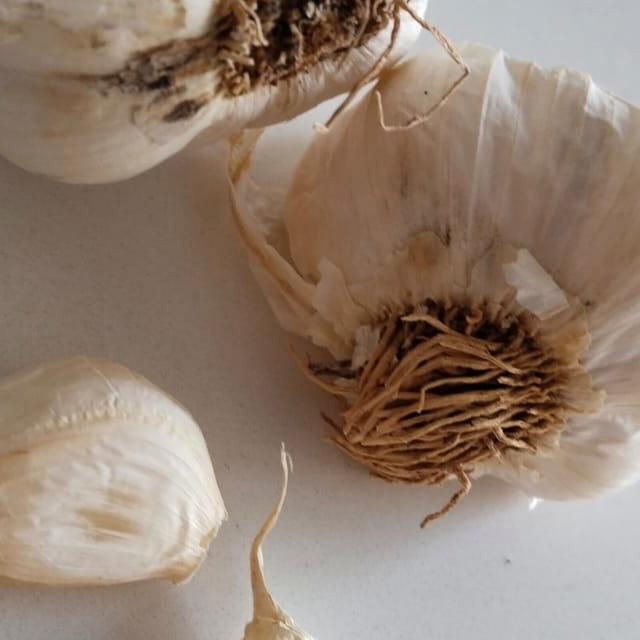garlic: (280, 40, 640, 520), (0, 335, 287, 587), (0, 0, 452, 160)
